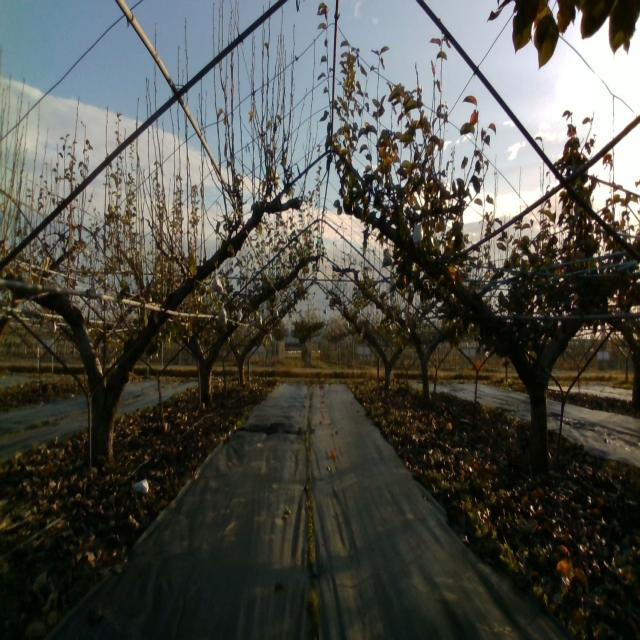pearbags: (412, 222, 424, 247)
